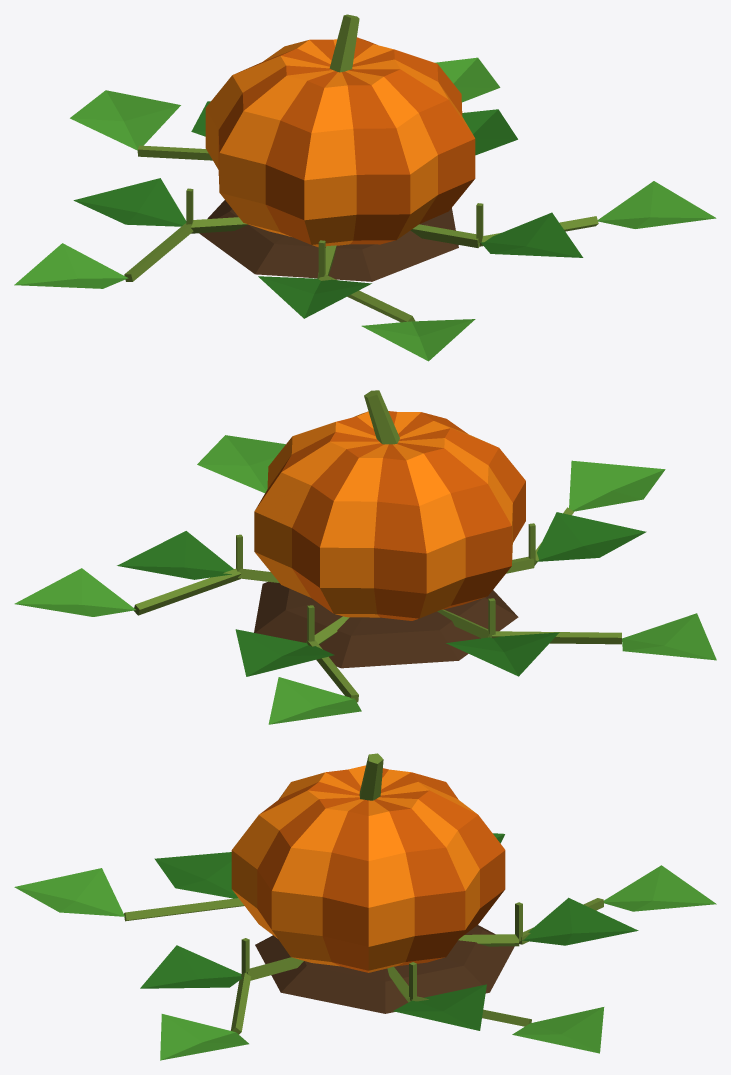
File: crop_pumpkin.glb
3 renders of one model, top to bottom at view 1: azimuth 30°, elevation 25°; view 2: azimuth 150°, elevation 25°; view 3: azimuth 270°, elevation 25°, orthographic. The views are drawn at different scales.
Parts seen in each view (by area): view 1: Fruit_0, Plant, Mounds; view 2: Fruit_0, Plant, Mounds; view 3: Fruit_0, Plant, Mounds.
Part boxes in pixels (x1,y1,x2,y2): Fruit_0: [205, 14, 475, 247]; Plant: [14, 57, 716, 361]; Mounds: [199, 200, 458, 281]; Fruit_0: [254, 390, 525, 620]; Plant: [14, 435, 716, 724]; Mounds: [254, 582, 518, 668]; Fruit_0: [231, 753, 505, 972]; Plant: [14, 833, 716, 1060]; Mounds: [255, 925, 514, 1013].
Bounding box in the file's own units: 2.02 × 0.6867 × 2.1.
